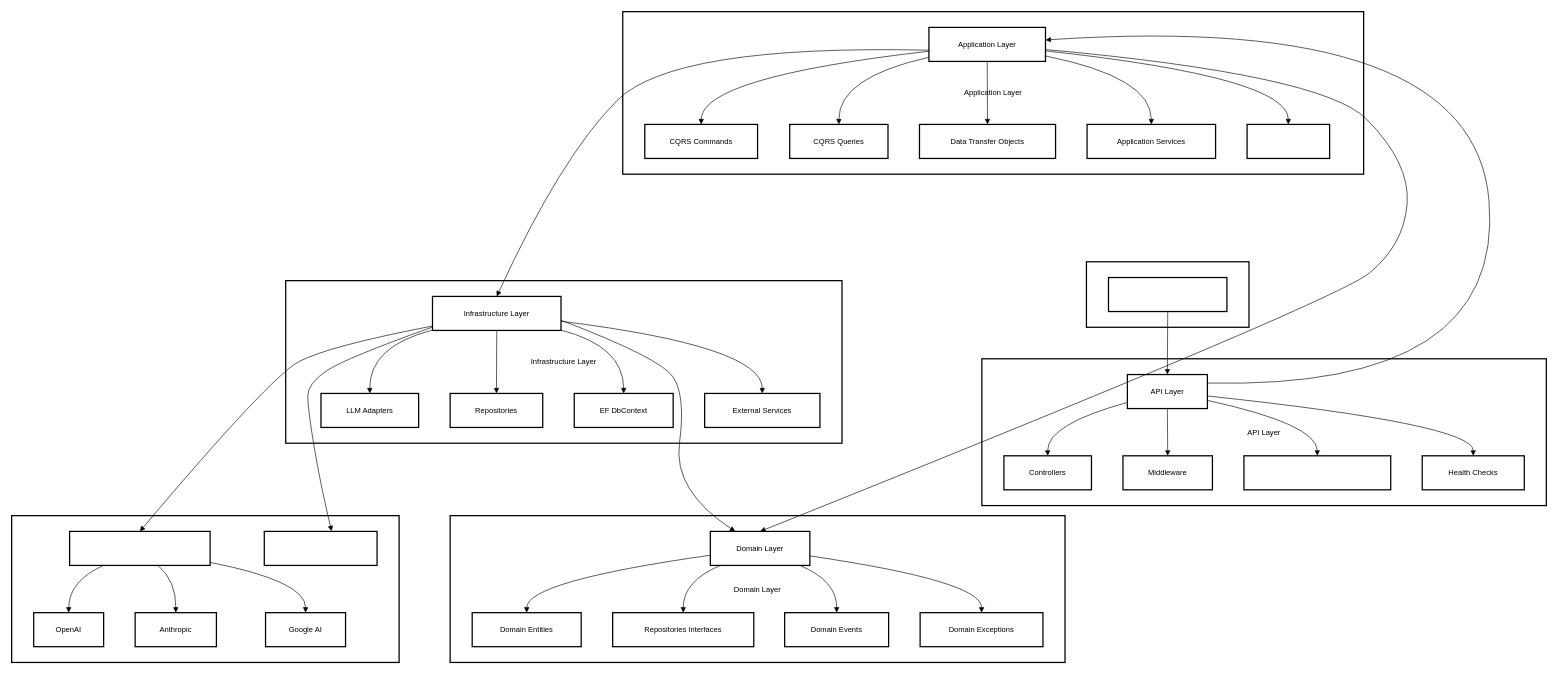
This 1557x673 diagram has some shape labels left out. Here are the shapes that lost their labels. From the top down, the box of each, then its label:
(1246, 123, 1330, 159): Validators
(1108, 277, 1227, 312): Client Application
(1243, 455, 1391, 490): Swagger Documentation
(69, 530, 210, 566): External LLM Providers
(263, 530, 377, 566): Data Persistence
(11, 515, 399, 663): External Systems
